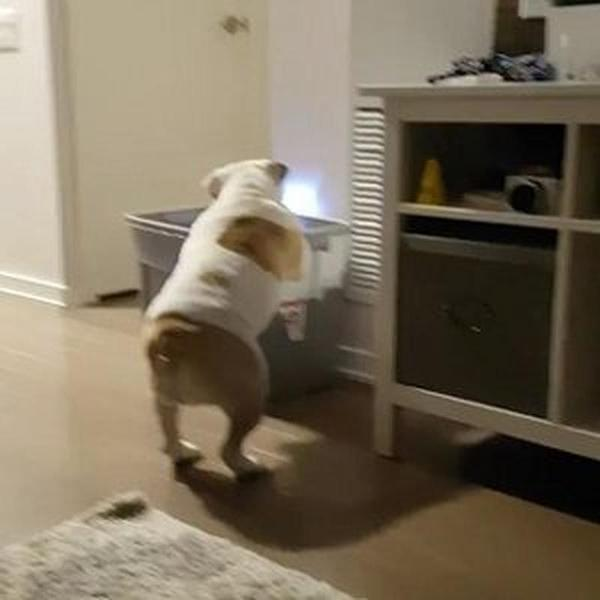allqu: (120, 150, 303, 488)
